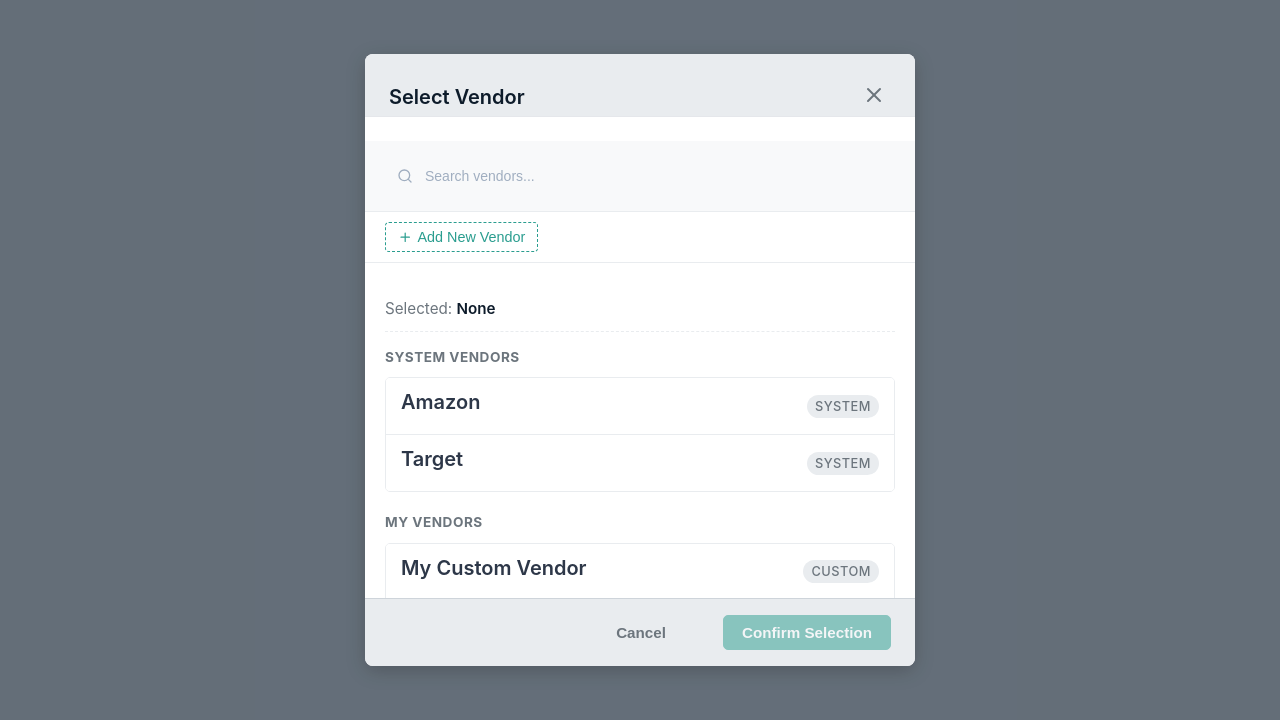
VendorSelectorModal › Search Functionality › should display no results message when search yields no matches
The width and height of the screenshot is (1280, 720).
Expected: the text "Amazon" is shown, [401,390,480,414]
Type "nonexistent" into the field with placeholder "Search vendors...".
click(640, 176); type("nonexistent")  # box [385,156,895,196]
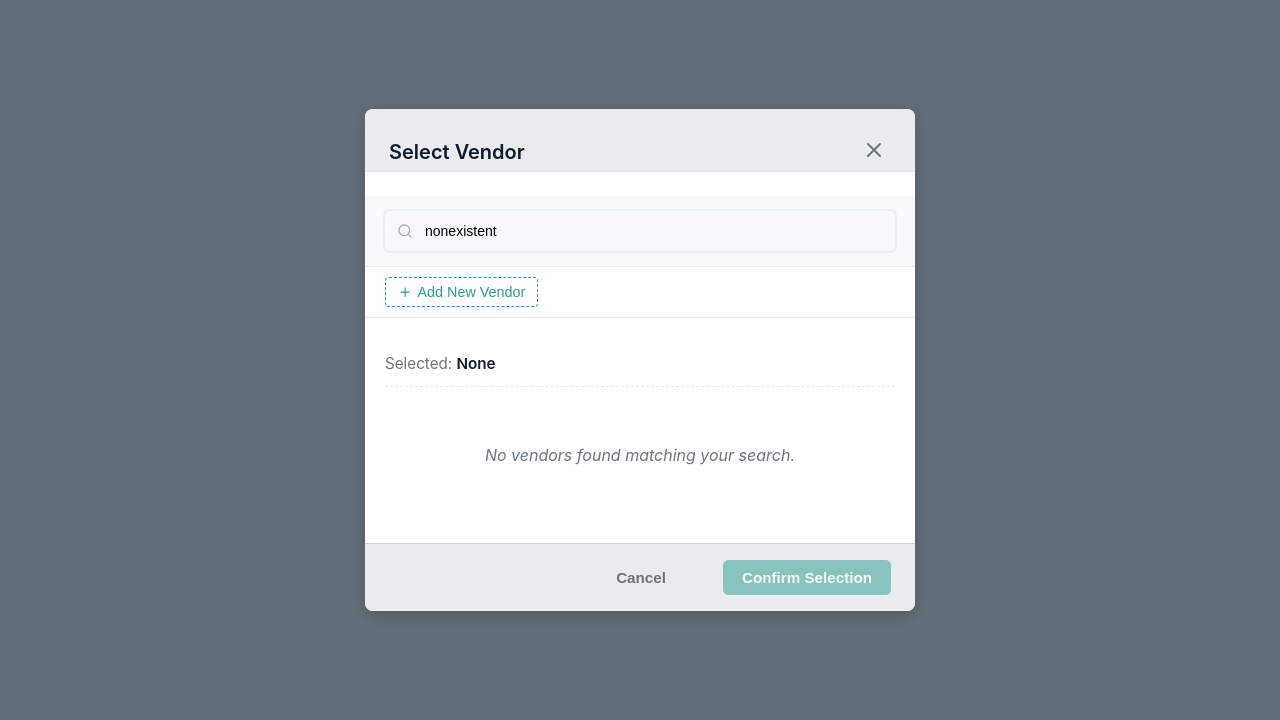
Now the text "No vendors found matching your search." is shown, box [485,445,795,465]
